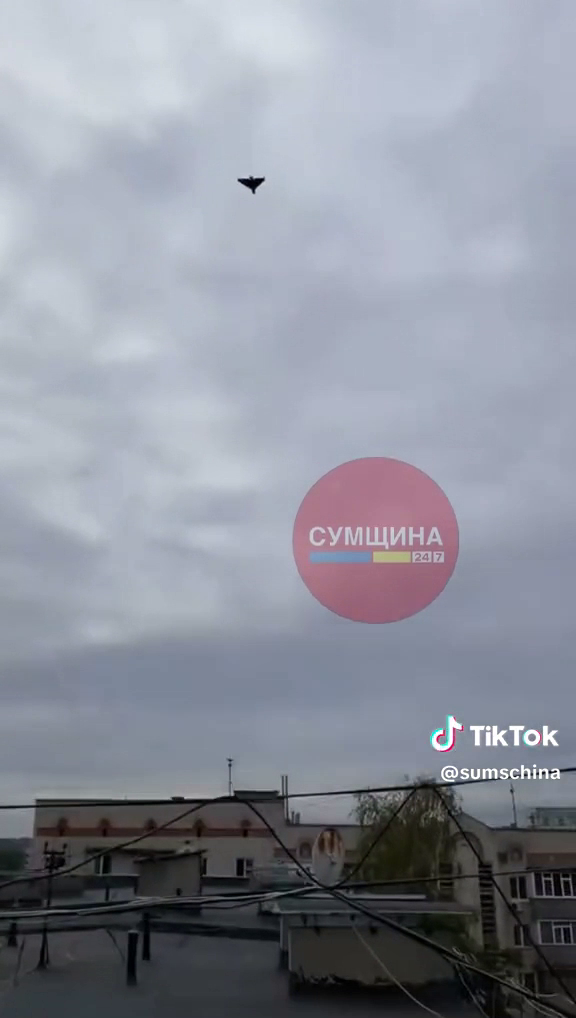shahed: (231, 169, 273, 201)
